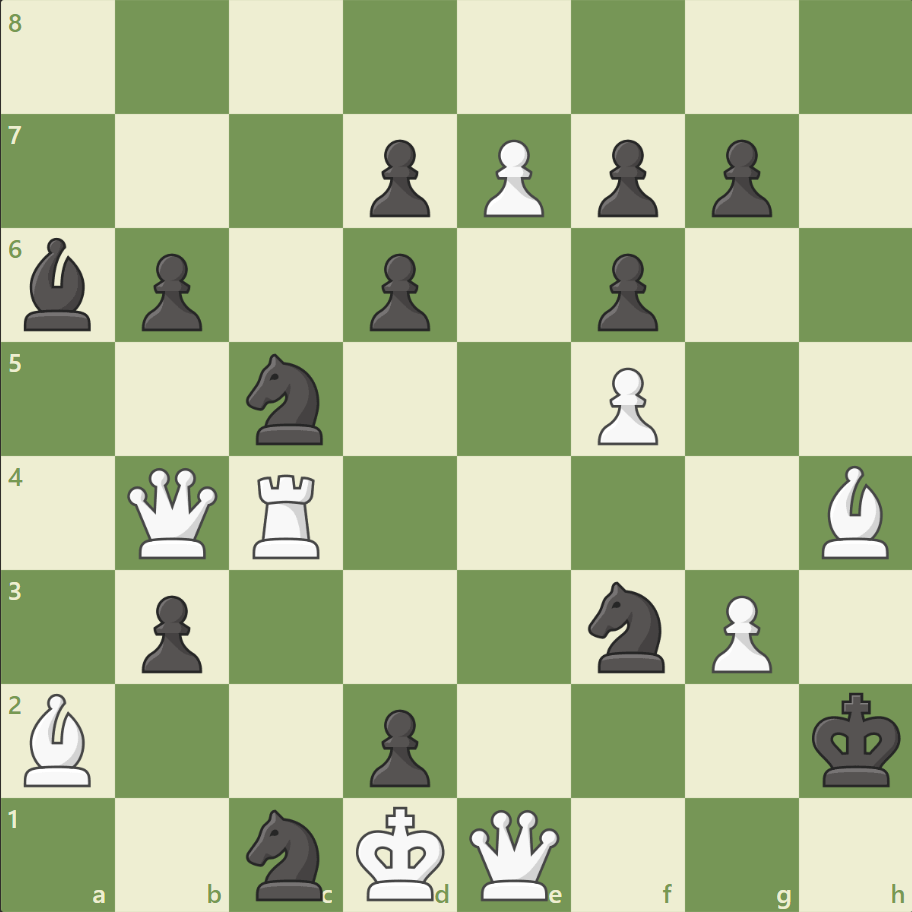B: (812, 460, 896, 563), (17, 687, 101, 790)
K: (351, 798, 451, 906)
P: (474, 132, 549, 223), (701, 586, 776, 677), (588, 359, 662, 450)
Q: (124, 463, 223, 562), (464, 804, 563, 903)
R: (246, 466, 329, 563)
b: (17, 233, 101, 336)
k: (806, 685, 906, 793)
n: (238, 348, 335, 450), (579, 575, 676, 677), (238, 802, 335, 904)
p: (701, 132, 776, 223), (133, 246, 208, 337), (133, 586, 208, 677), (361, 132, 435, 223), (588, 132, 662, 223), (361, 246, 435, 337), (588, 246, 662, 337), (361, 700, 435, 791)
